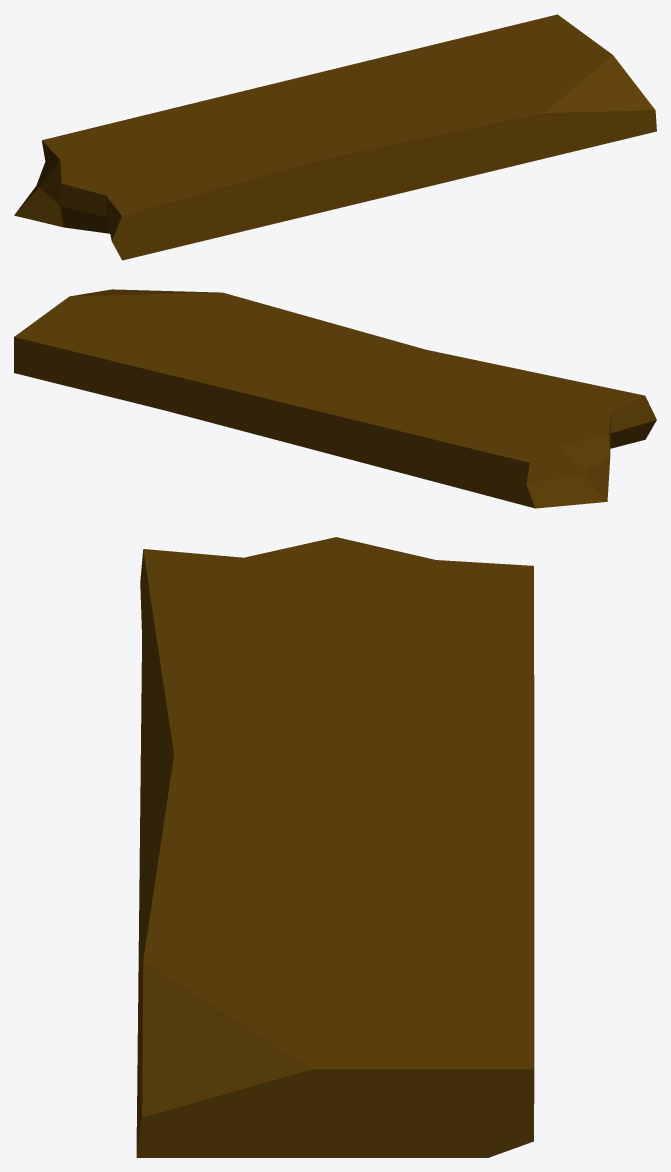
File: broken_plank_2.fbx
The picture shows the model from 3 angles, top to bottom: view 1: azimuth 30°, elevation 25°; view 2: azimuth 150°, elevation 25°; view 3: azimuth 270°, elevation 25°; orthographic projection. The views are drawn at different scales.
Parts seen in each view (by area): view 1: Wooden_Plank_Broken_2; view 2: Wooden_Plank_Broken_2; view 3: Wooden_Plank_Broken_2.
Boxes of the visible parts, x1,y1,x2,y2 form: Wooden_Plank_Broken_2: (14,14,656,260); Wooden_Plank_Broken_2: (14,289,656,508); Wooden_Plank_Broken_2: (136,537,534,1157).
Bounding box in the file's own units: 132 × 9.83 × 40.04.
